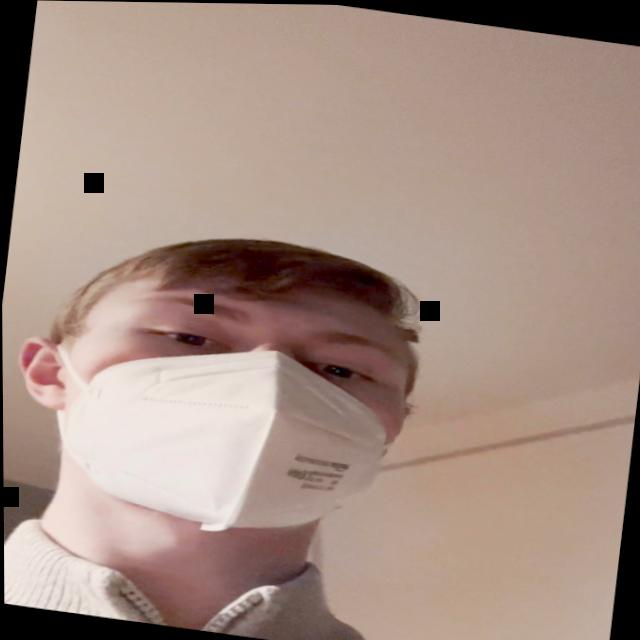Mask: (50, 246, 433, 555)
